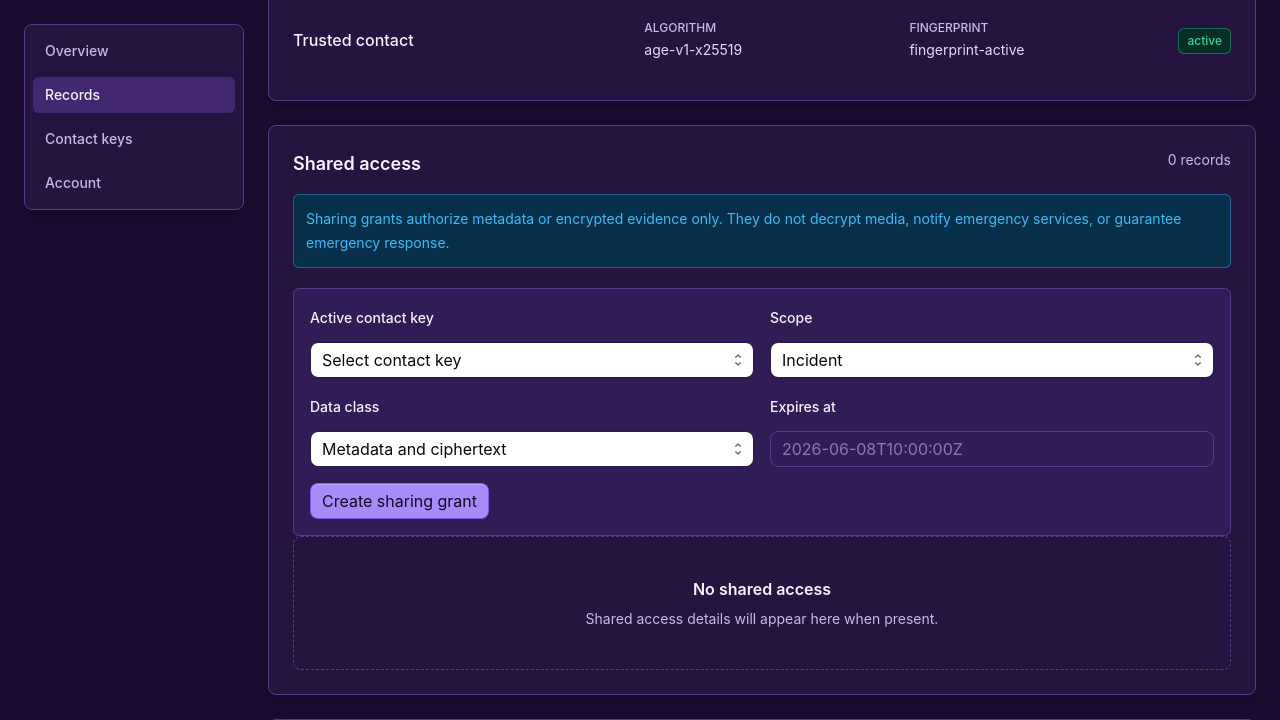
Scenario: keeps sharing-grant dependency errors generic
(page scrolled)
Select "Trusted contact (fingerprint-active)" in the dropdown labelled "Active contact key" at (532, 360), box [310,342,754,378]
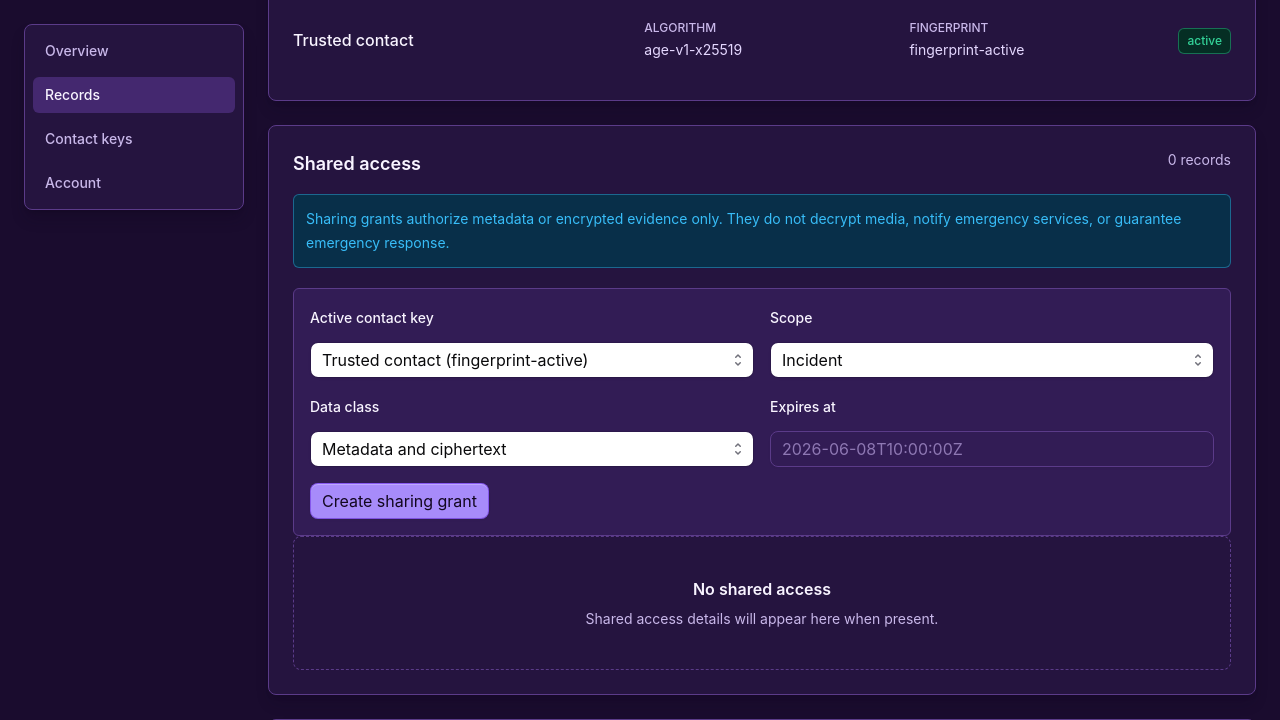
Click the button "Create sharing grant" at (400, 501), box [310,483,489,519]
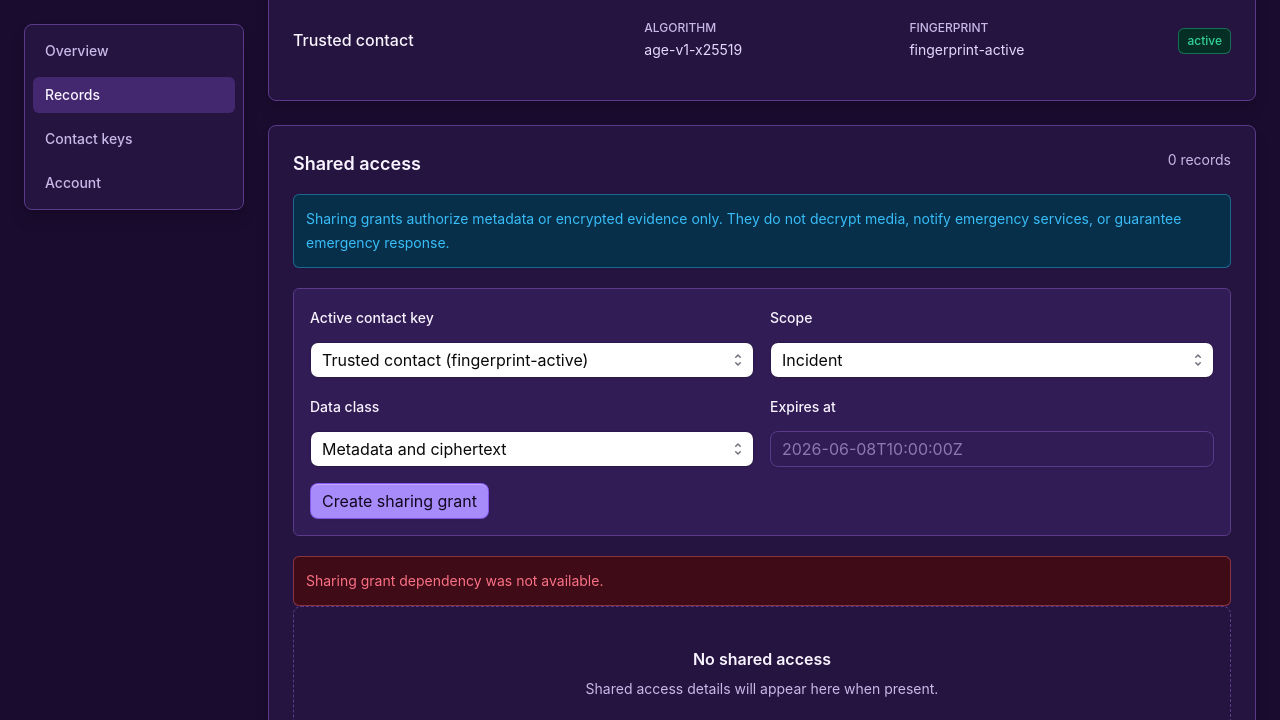
Expected: the text "Sharing grant dependency was not available." is shown, [293,556,1231,606]
